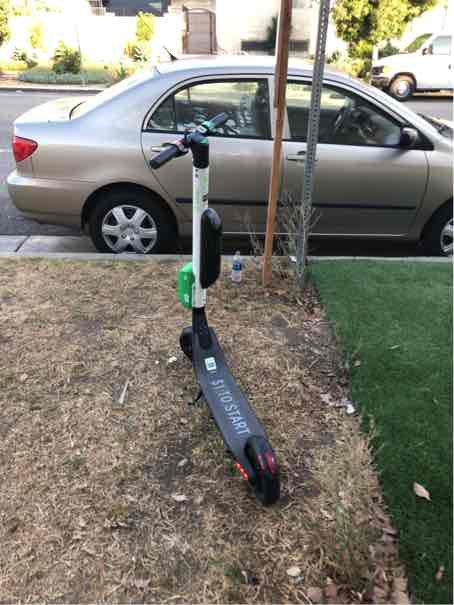scooter: (135, 116, 302, 520)
